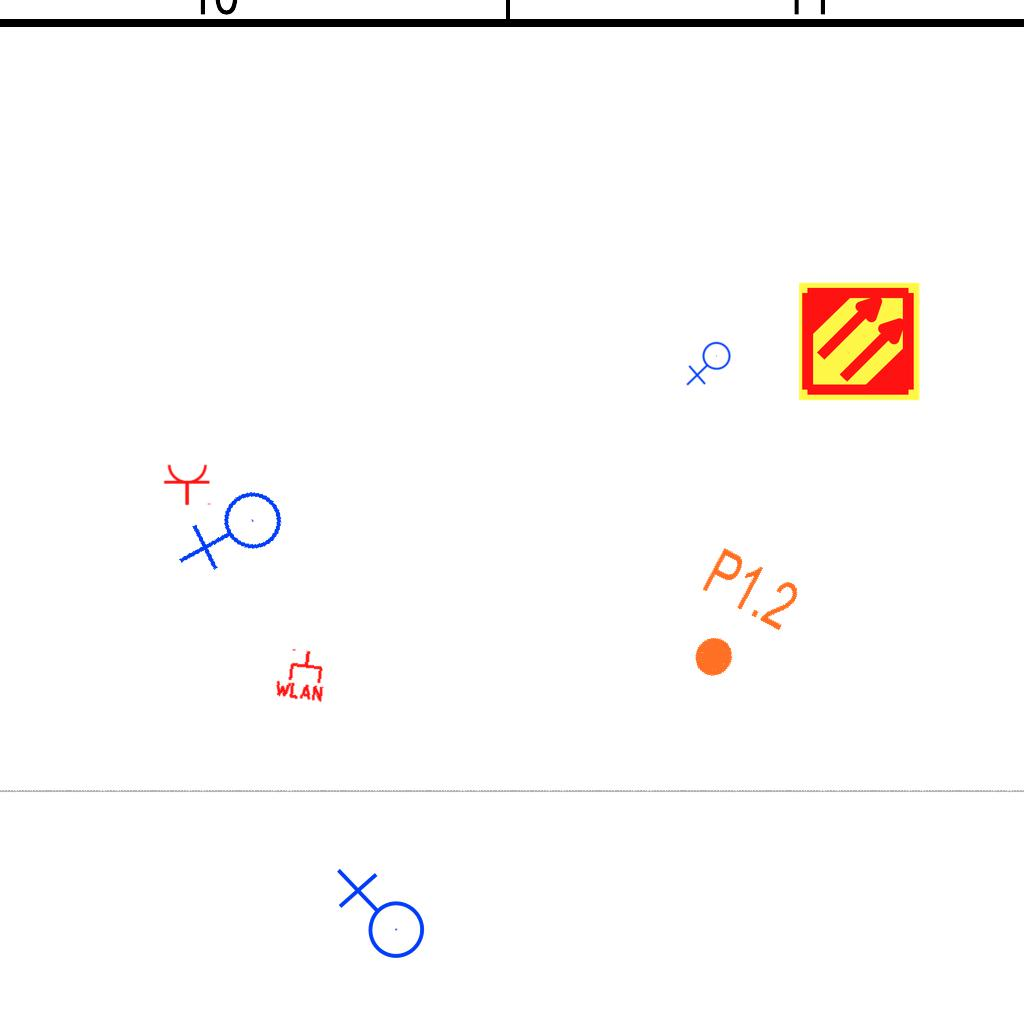ASR_Ansaugrauchmelder: (797, 279, 922, 404)
Downlight_LED_Einbauleuchten_Flur: (663, 542, 806, 700)
Elektroanschluss_allgemein_230V_Geraeteanschlussdose_230V: (176, 475, 297, 593), (332, 868, 426, 967), (686, 341, 735, 388)
Schukosteckdose_einfach: (163, 463, 213, 506)
WLAN: (272, 645, 330, 703)
